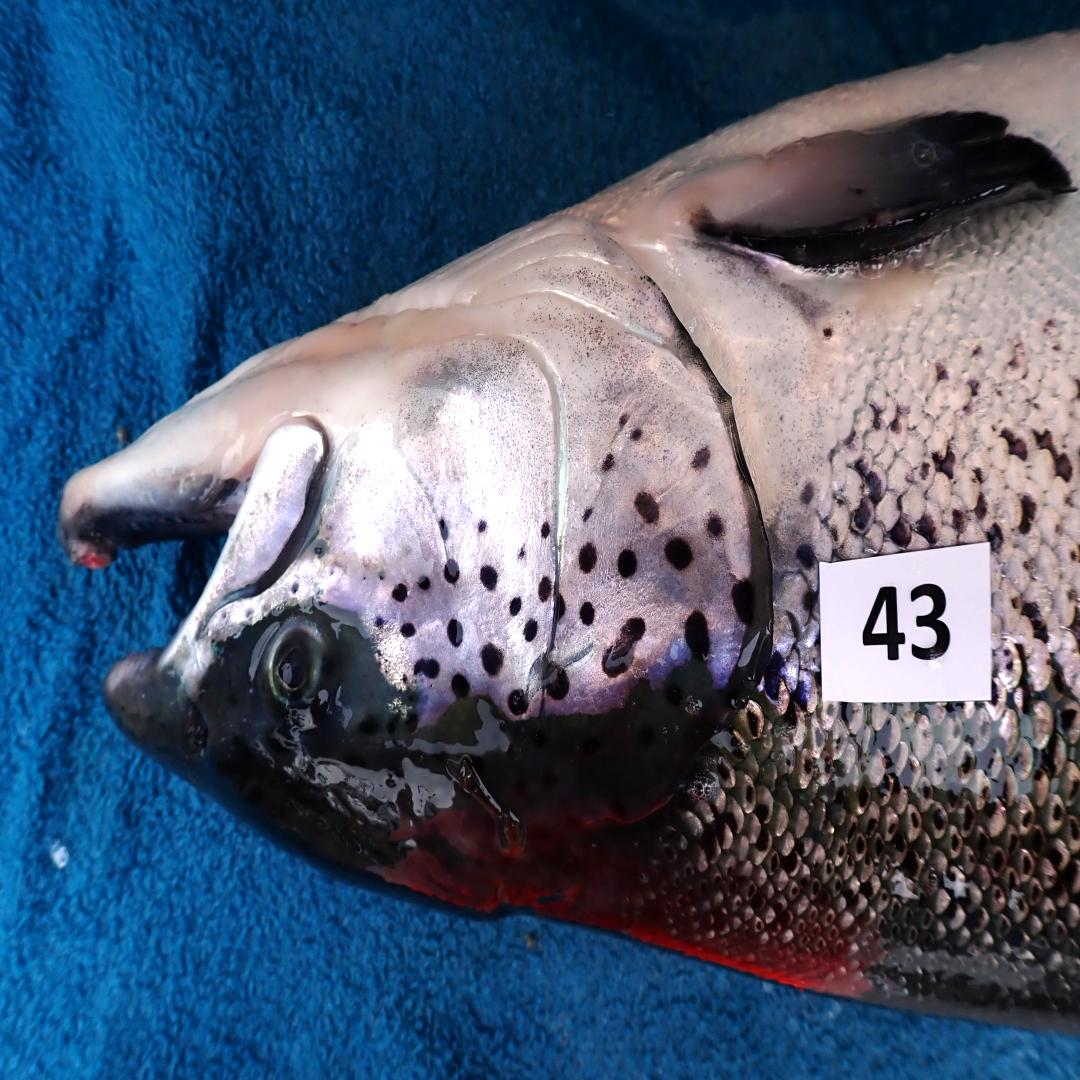roi: (328, 209, 754, 719)
